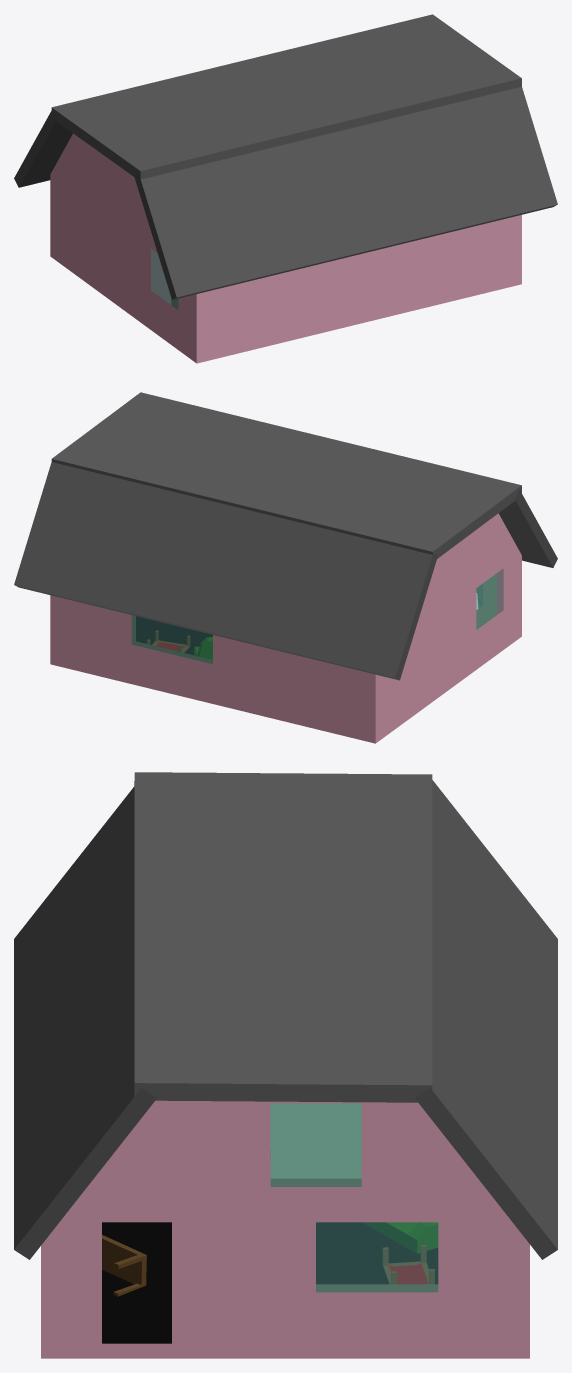
The model's file is house 2.fbx.
3 renders of one model, top to bottom at view 1: azimuth 30°, elevation 25°; view 2: azimuth 150°, elevation 25°; view 3: azimuth 270°, elevation 25°, orthographic. The views are drawn at different scales.
Visible parts, largest first — view 1: Cube; view 2: Cube; view 3: Cube, Cube.010, Cube.003, Cube.007.
Part boxes in pixels (box(x1,y1,x2,y2)): Cube: box(14, 14, 557, 363); Cube: box(14, 392, 557, 743); Cube: box(14, 772, 557, 1358); Cube.010: box(102, 1235, 146, 1296); Cube.003: box(363, 1222, 438, 1253); Cube.007: box(382, 1245, 434, 1284).
Bounding box in the file's own units: 2074 × 929 × 1533.
